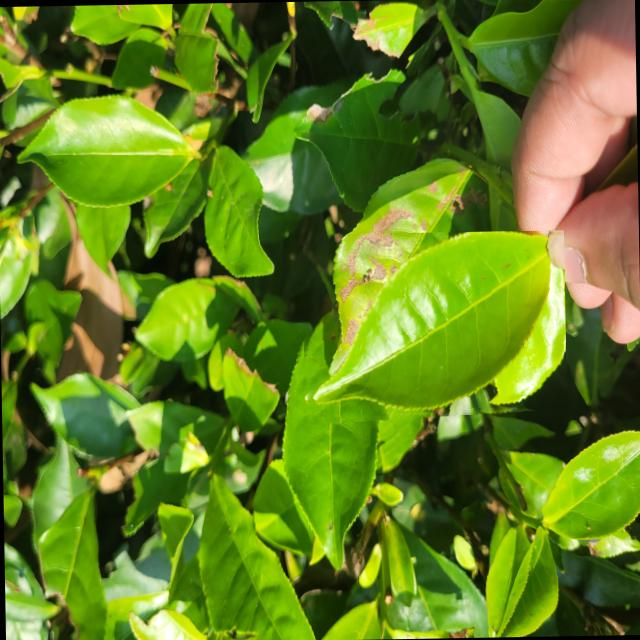Catagory A(1-2 days): (296, 228, 566, 424)
